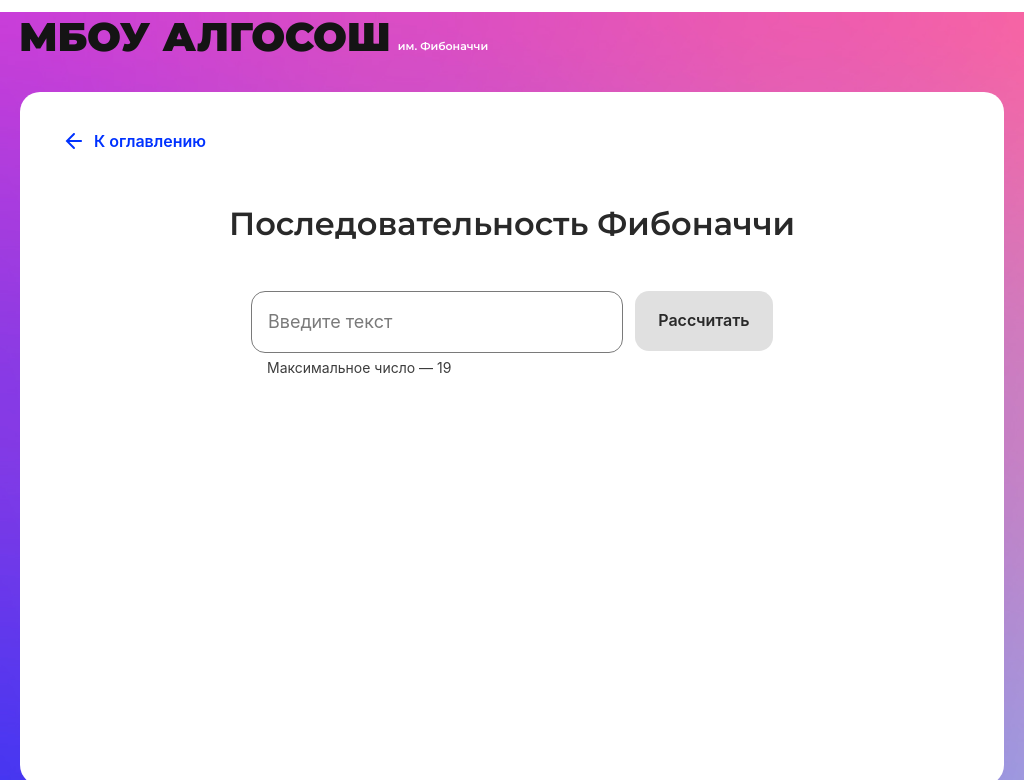
Test: Cтраница Фибоначчи работает корректно › Числа генерируются корректно
Step 1. Type "5" into the number field with placeholder "Введите текст" → coordinates (437, 322), box top-left (251, 291), bottom-right (623, 353)
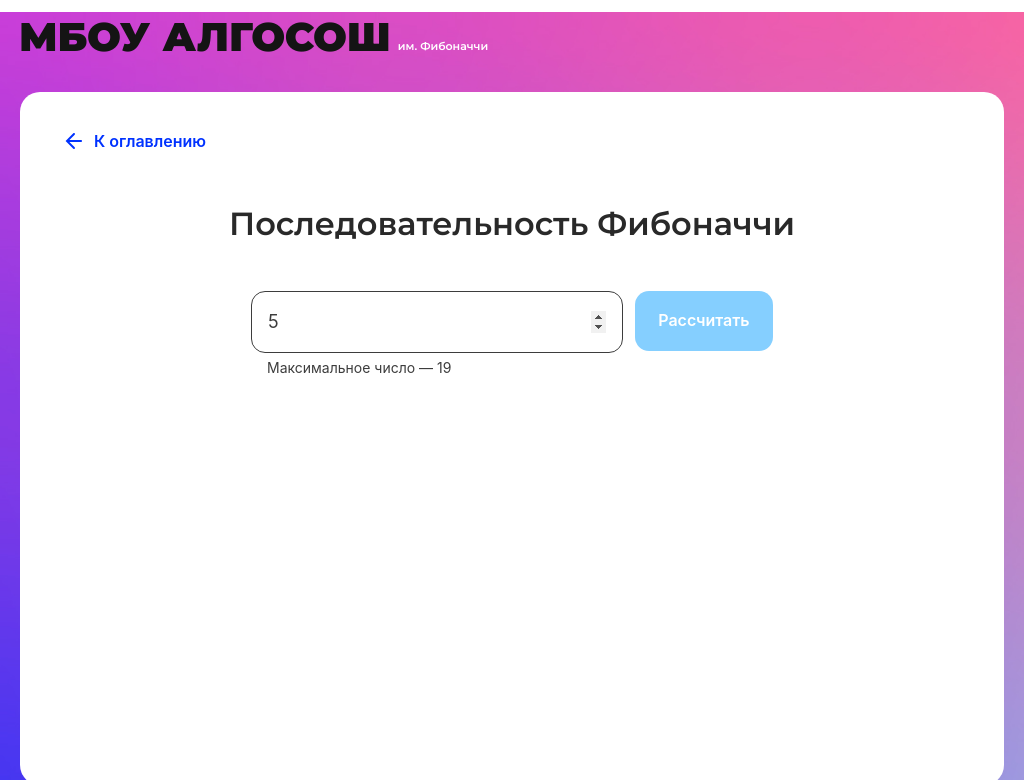
Step 2. Click the button "Рассчитать" → coordinates (704, 321), box top-left (635, 291), bottom-right (773, 351)
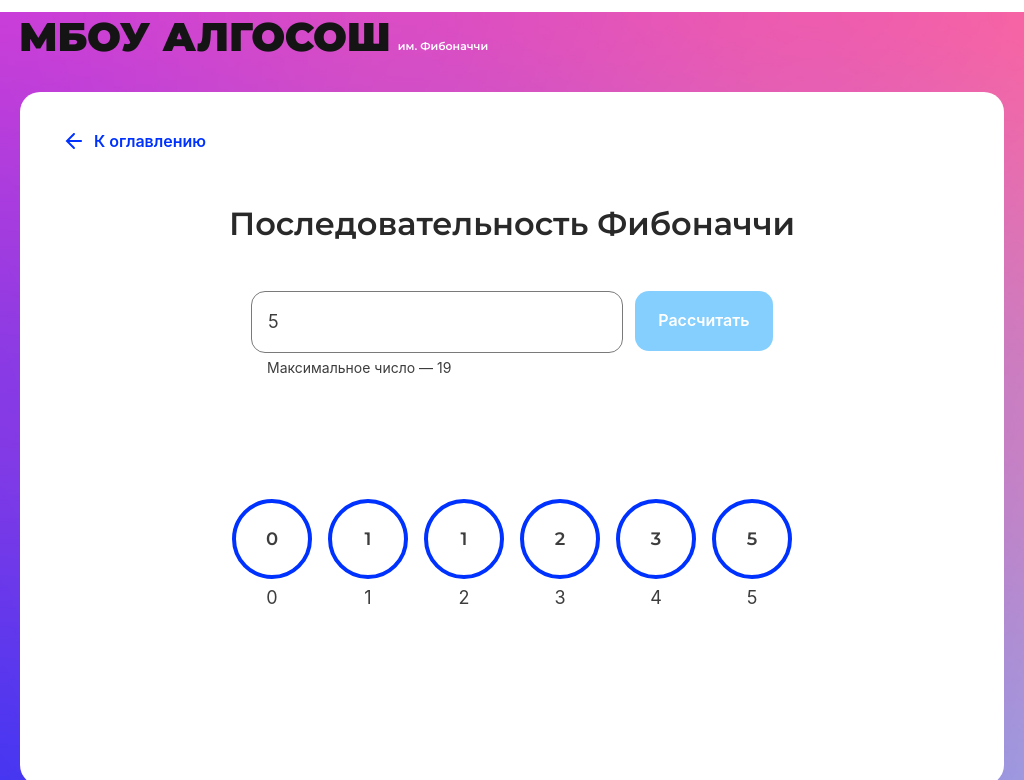
Check: the number of elements with test id "circle" is 6, box top-left (232, 499), bottom-right (312, 579); top-left (328, 499), bottom-right (408, 579); top-left (424, 499), bottom-right (504, 579); top-left (520, 499), bottom-right (600, 579); top-left (616, 499), bottom-right (696, 579); top-left (712, 499), bottom-right (792, 579)
